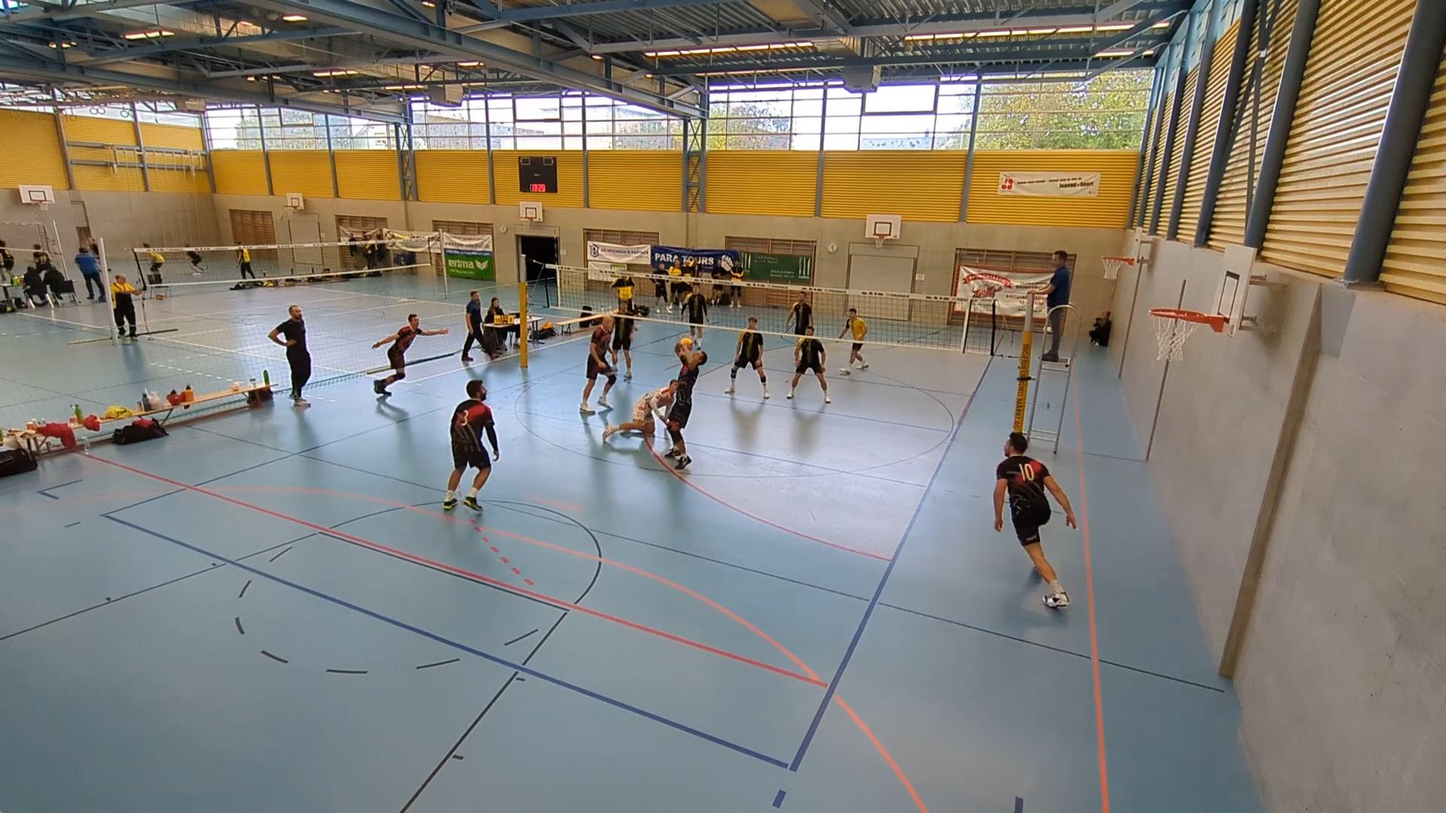Player: (993, 433, 1076, 608), (443, 379, 499, 510), (373, 314, 449, 394), (602, 380, 678, 440), (725, 316, 770, 398), (580, 315, 617, 414), (787, 324, 830, 403), (611, 299, 636, 379), (839, 309, 868, 375), (684, 288, 708, 344), (785, 291, 812, 334)
Set: (668, 340, 704, 473)
ball: (682, 339, 700, 348)
